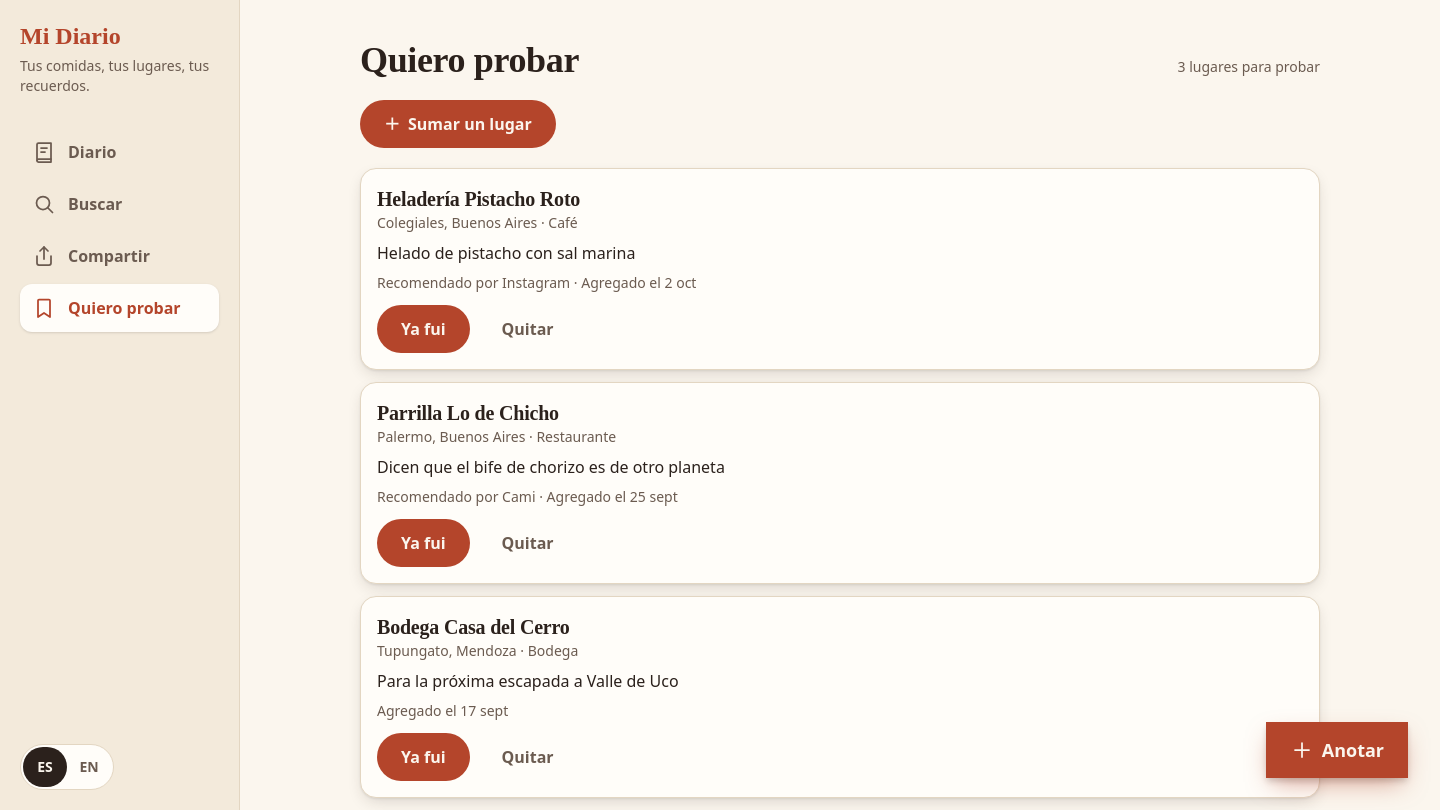
Test: Wishlist ("Quiero probar") › "Ya fui" starts a log pre-filled with that place
Click the link with aria-label "Ya fui a Parrilla Lo de Chicho: anotar mi visita" at (423, 543), box [377,519,470,567]
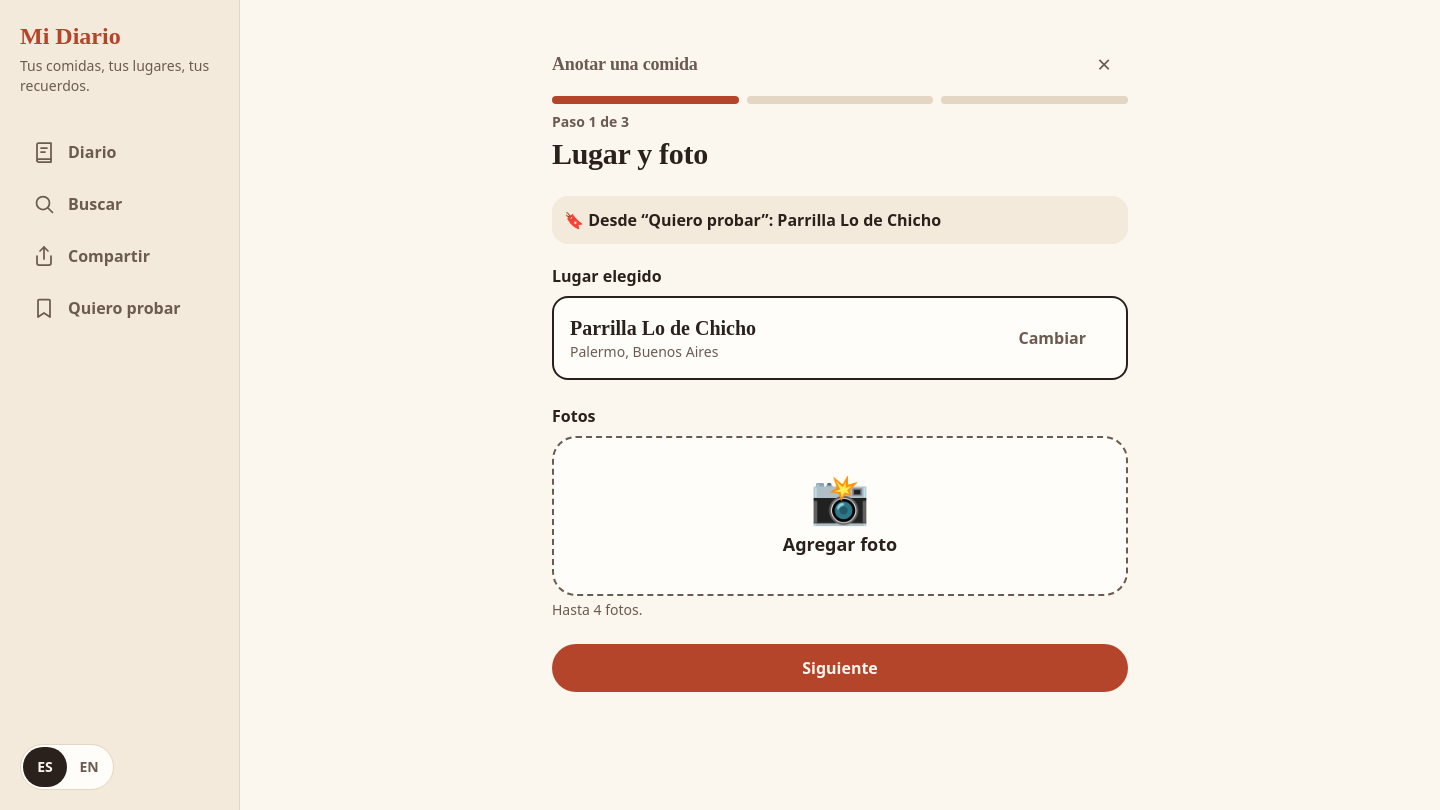
Expected: the text "Lugar elegido" is shown, [552,265,662,287]
Expected: the text "🔖 Desde “Quiero probar”: Parrilla Lo de Chicho" is shown, [552,196,1128,244]
